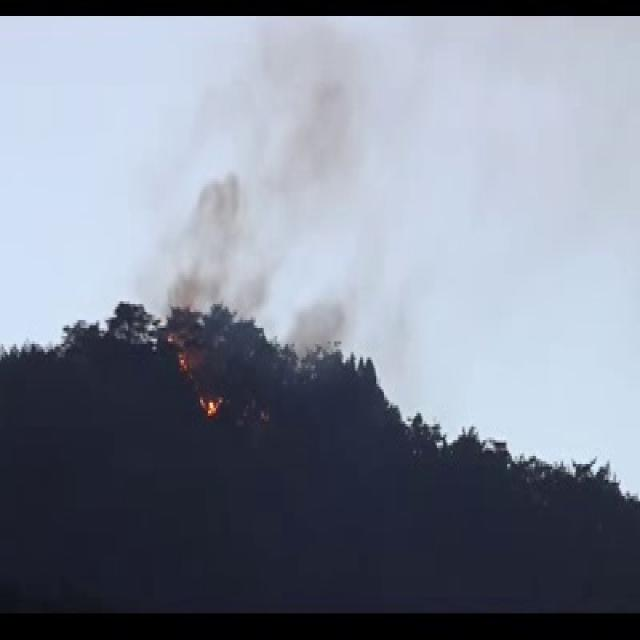smoke: (195, 86, 385, 331)
